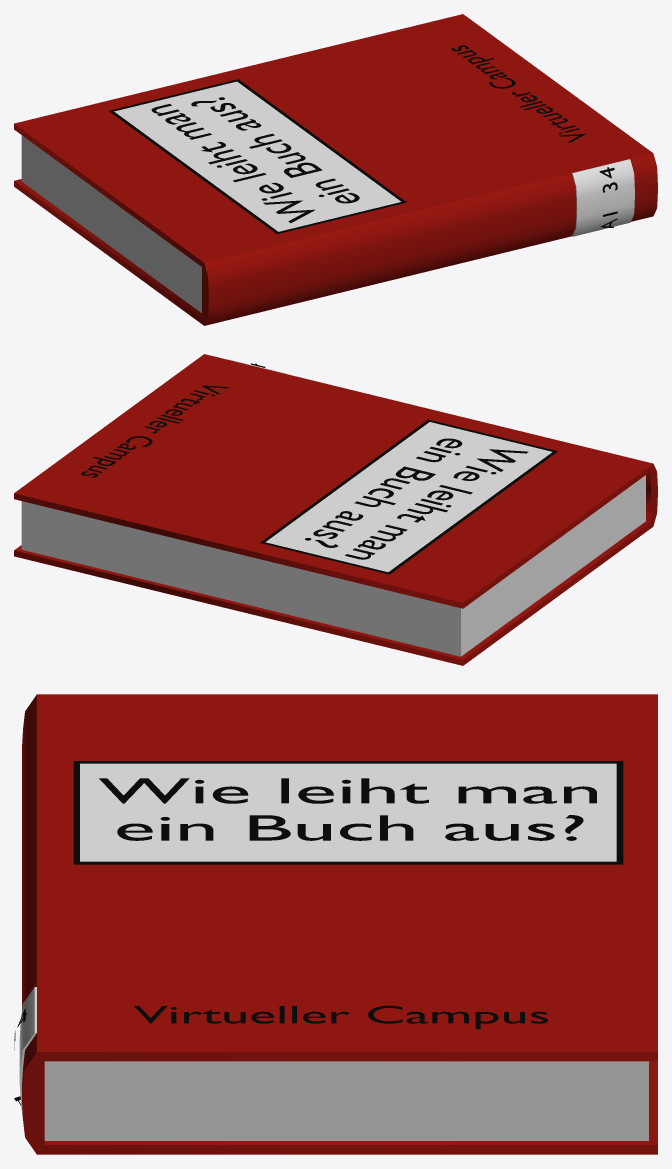
Rendered from Book_Ausleihe.fbx.
3 views of the same model, one above another, from view 1: azimuth 30°, elevation 25°; view 2: azimuth 150°, elevation 25°; view 3: azimuth 270°, elevation 25° (orthographic). The views are drawn at different scales.
Parts seen in each view (by area): view 1: Cube; view 2: Cube; view 3: Cube.
Boxes of the visible parts, x1=… form: Cube: x1=14, y1=14, x2=657, y2=325; Cube: x1=14, y1=354, x2=657, y2=665; Cube: x1=14, y1=694, x2=657, y2=1154.
Bounding box in the file's own units: 200 × 27.58 × 152.
